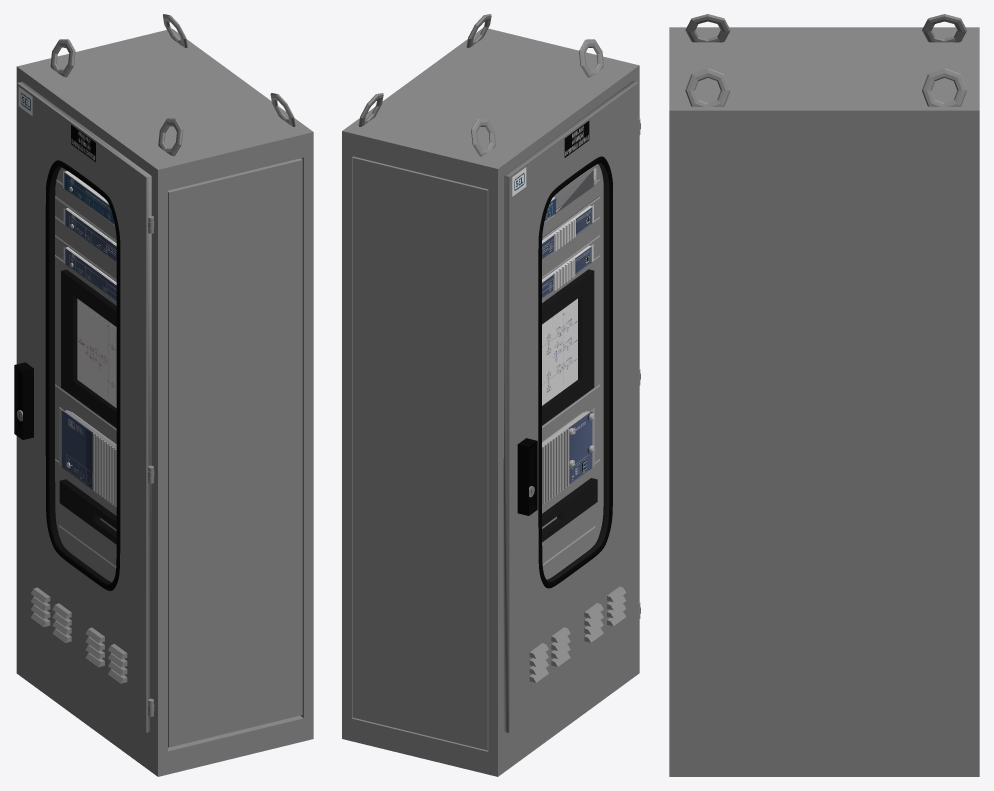
The model's file is Painel PAUT.fbx.
3 views of the same model, side by side, from view 1: azimuth 30°, elevation 25°; view 2: azimuth 150°, elevation 25°; view 3: azimuth 270°, elevation 25° (orthographic). The views are drawn at different scales.
Parts seen in each view (by area): view 1: Base Estructure, Porta, DIAGRAMA UNIFILAR SUBESTAÇÃO, SEL-3355, GAVETA, 2730M.002, 2730M.001, SEL-3530-4; view 2: Base Estructure, Porta, DIAGRAMA UNIFILAR SUBESTAÇÃO, SEL-3355, GAVETA, 2730M.002, 2730M.001, SEL-3530-4; view 3: Base Estructure.
Boxes of the visible parts, x1=… form: Base Estructure: x1=16, y1=14, x2=313, y2=776; Porta: x1=14, y1=81, x2=154, y2=732; DIAGRAMA UNIFILAR SUBESTAÇÃO: x1=61, y1=269, x2=116, y2=427; SEL-3355: x1=59, y1=407, x2=116, y2=507; GAVETA: x1=59, y1=479, x2=116, y2=544; 2730M.002: x1=63, y1=208, x2=116, y2=262; 2730M.001: x1=63, y1=247, x2=116, y2=301; SEL-3530-4: x1=63, y1=171, x2=114, y2=225; Base Estructure: x1=342, y1=14, x2=639, y2=776; Porta: x1=503, y1=81, x2=640, y2=732; DIAGRAMA UNIFILAR SUBESTAÇÃO: x1=542, y1=269, x2=594, y2=425; SEL-3355: x1=542, y1=408, x2=594, y2=505; GAVETA: x1=542, y1=478, x2=597, y2=542; 2730M.002: x1=542, y1=205, x2=593, y2=259; 2730M.001: x1=542, y1=244, x2=593, y2=298; SEL-3530-4: x1=544, y1=167, x2=596, y2=222; Base Estructure: x1=669, y1=14, x2=979, y2=776.
Bounding box in the file's own units: 160 × 567 × 228.
Materials: 32 (12 with a texture image).
